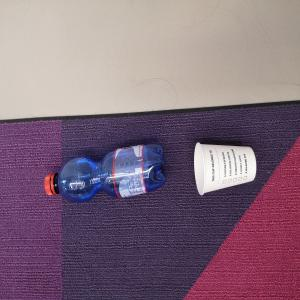Cup: (195, 143, 258, 197)
Plastic-bottle: (45, 145, 168, 206)
